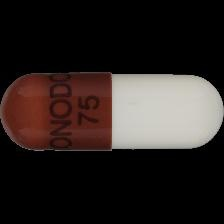16110-075: (0, 0, 224, 224)
